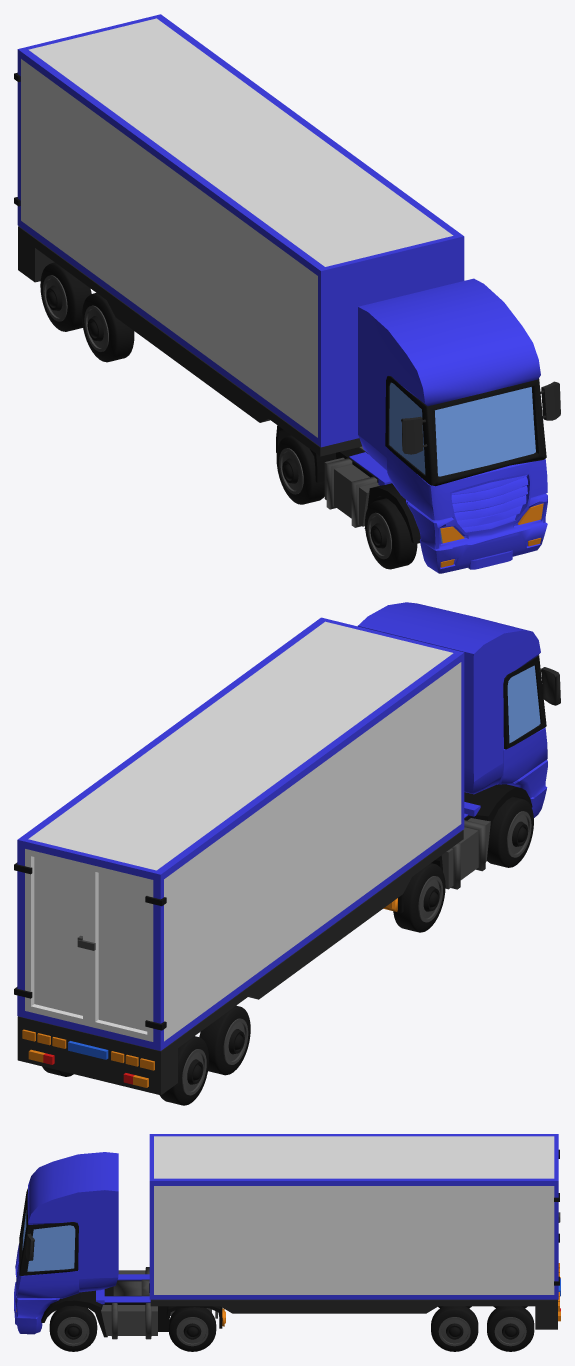
Rendered from Truck.fbx.
The picture shows the model from 3 angles, top to bottom: view 1: azimuth 30°, elevation 25°; view 2: azimuth 150°, elevation 25°; view 3: azimuth 270°, elevation 25°; orthographic projection. The views are drawn at different scales.
Parts seen in each view (by area): view 1: Object010, Object011, R3_022, R3_027, R3_025, R3_023; view 2: Object010, Object011, R3_022, R3_027, R3_023, R3_025; view 3: Object010, Object011, R3_026, R3_024, R3_020, R3_021.
Boxes of the visible parts, bbox=[...] form: Object010: bbox=[14, 14, 464, 456]; Object011: bbox=[276, 278, 560, 573]; R3_022: bbox=[365, 498, 417, 569]; R3_027: bbox=[82, 293, 134, 362]; R3_025: bbox=[40, 262, 91, 331]; R3_023: bbox=[276, 435, 324, 504]; Object010: bbox=[14, 617, 464, 1095]; Object011: bbox=[358, 602, 560, 912]; R3_022: bbox=[487, 796, 533, 867]; R3_027: bbox=[199, 1005, 250, 1075]; R3_023: bbox=[393, 863, 445, 932]; R3_025: bbox=[159, 1036, 209, 1105]; Object010: bbox=[149, 1134, 560, 1329]; Object011: bbox=[14, 1152, 225, 1339]; R3_026: bbox=[431, 1306, 478, 1351]; R3_024: bbox=[487, 1306, 534, 1351]; R3_020: bbox=[49, 1305, 97, 1351]; R3_021: bbox=[168, 1307, 216, 1351].
Size of the model in its own units: 86.66 by 134 by 386.
